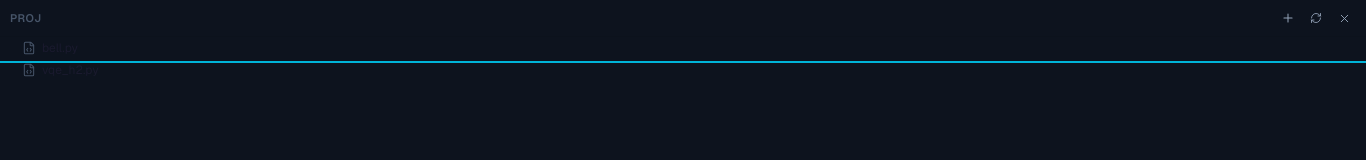
FileExplorer rename (r7-research-02/03) › rejects slashes in a rename
Press F2 in the list item "bell.py", box x1=22 y1=40 x2=78 y2=56
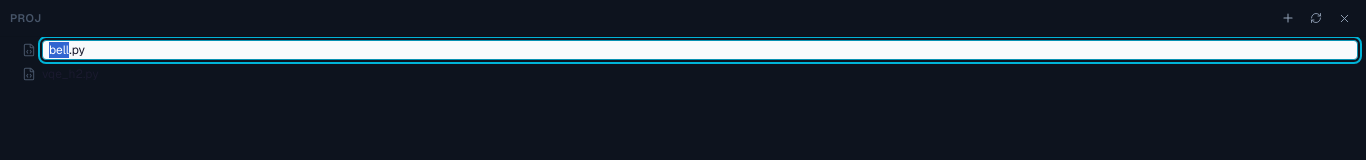
Replace the text in the field named "Rename bell.py" with "/etc/x.py" at (700, 50), box x1=42 y1=40 x2=1358 y2=60
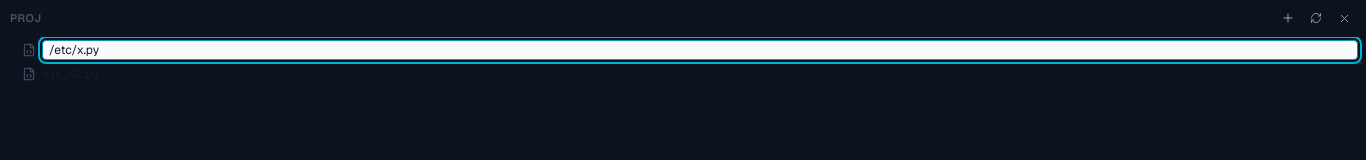
Press Enter in the field named "Rename bell.py", box x1=42 y1=40 x2=1358 y2=60
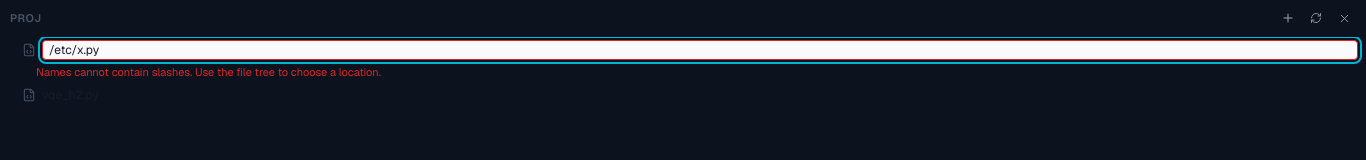
Expected: the message shows "slashes", x1=36 y1=65 x2=381 y2=79
